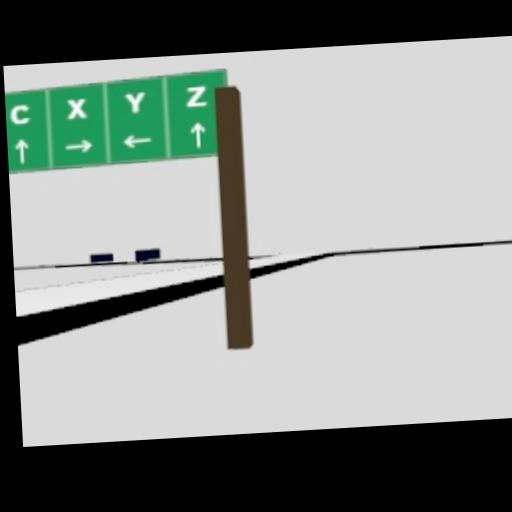C: (9, 102, 30, 124)
Left: (121, 132, 152, 148)
Right: (62, 137, 93, 154)
Straight: (190, 120, 207, 149), (13, 137, 29, 166)
X: (66, 96, 87, 119)
Y: (124, 90, 148, 113)
Z: (184, 84, 209, 107)
